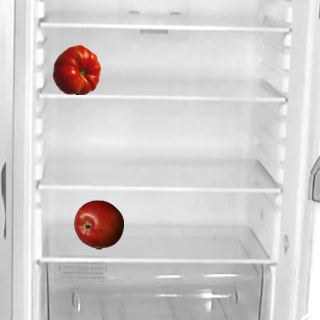Apple Braeburn: (73, 199, 123, 249)
Tomato 3: (51, 44, 101, 94)
